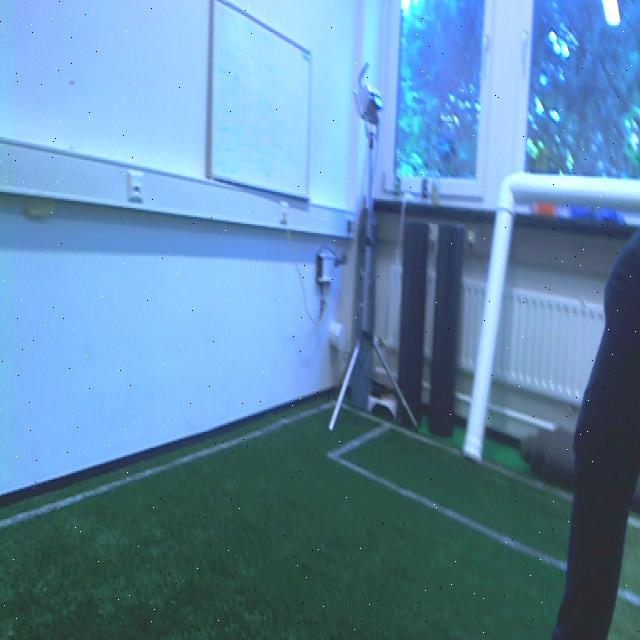goalpost: (469, 62, 529, 457)
